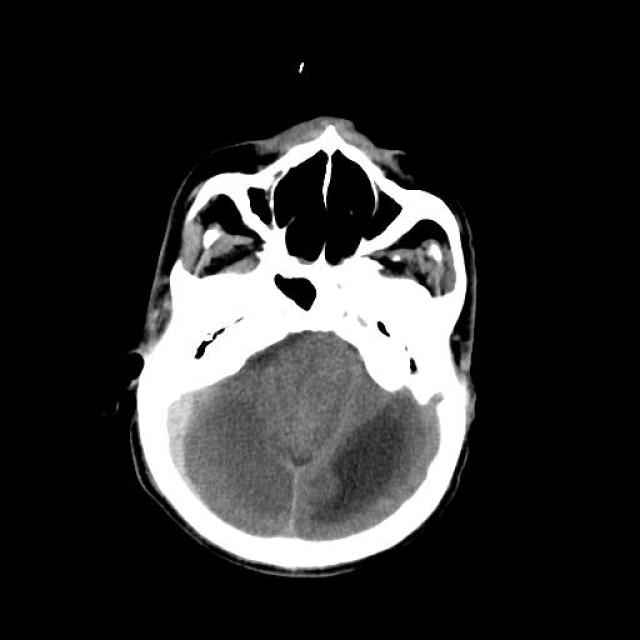Subdural: (140, 377, 224, 492)
